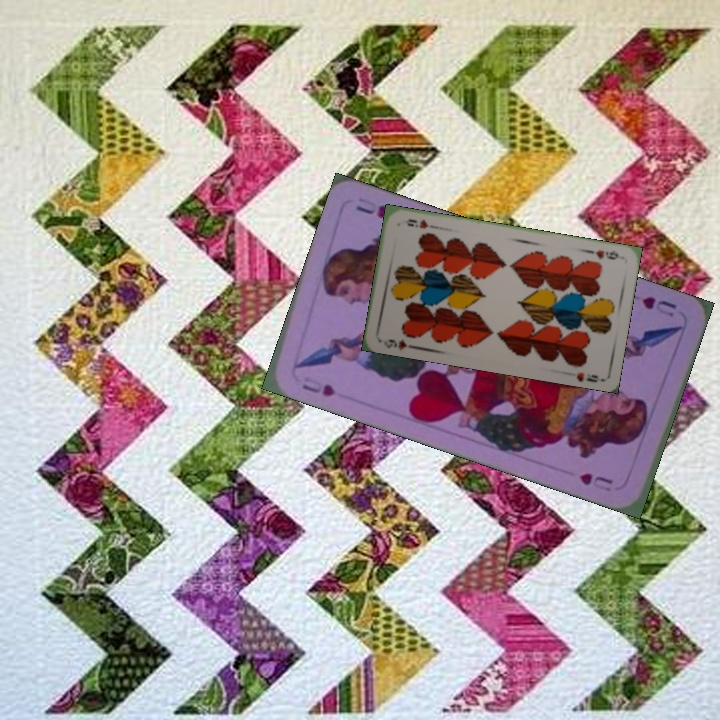H9: (380, 335, 418, 352), (592, 246, 621, 262)
HU: (298, 371, 338, 400), (637, 292, 679, 319)
